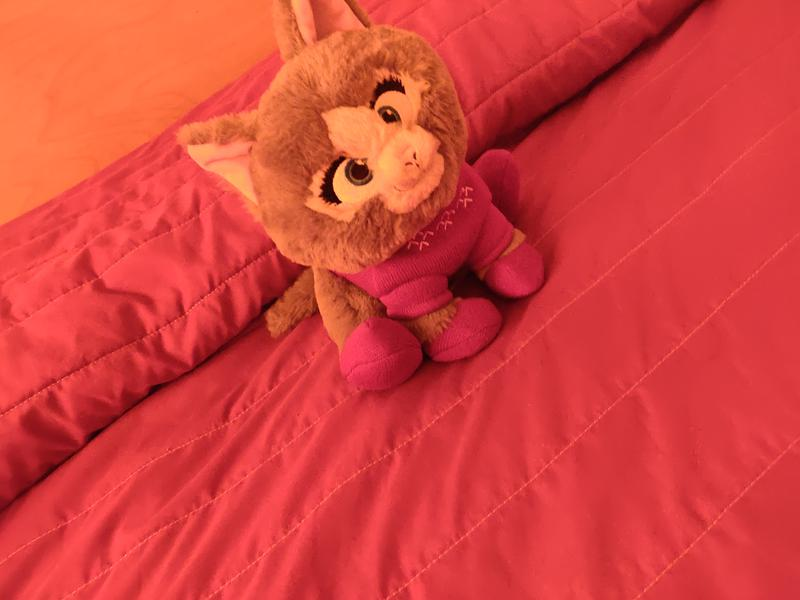kitten: (176, 1, 591, 400)
